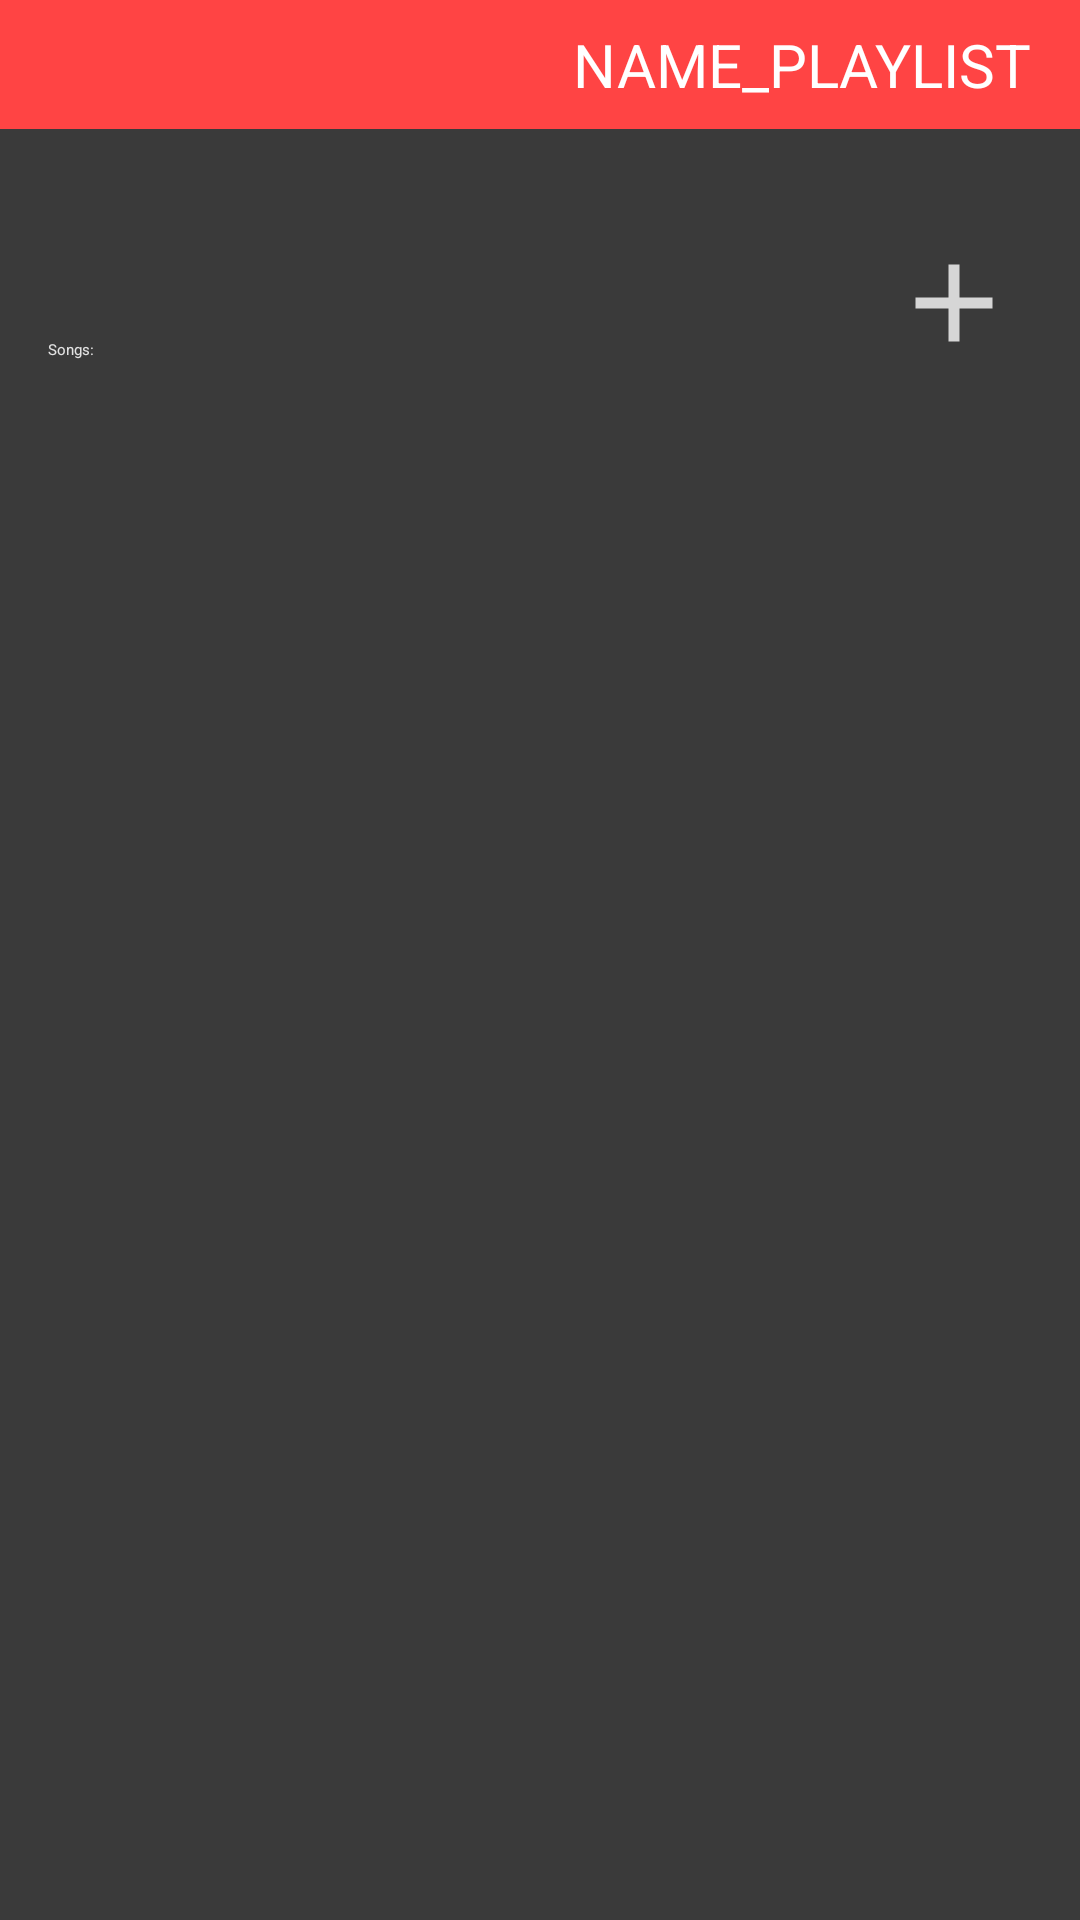

Screen size 1080 × 1920. Icon name, then its center in pixels as point (x, y):
add cross: point (954, 303)
